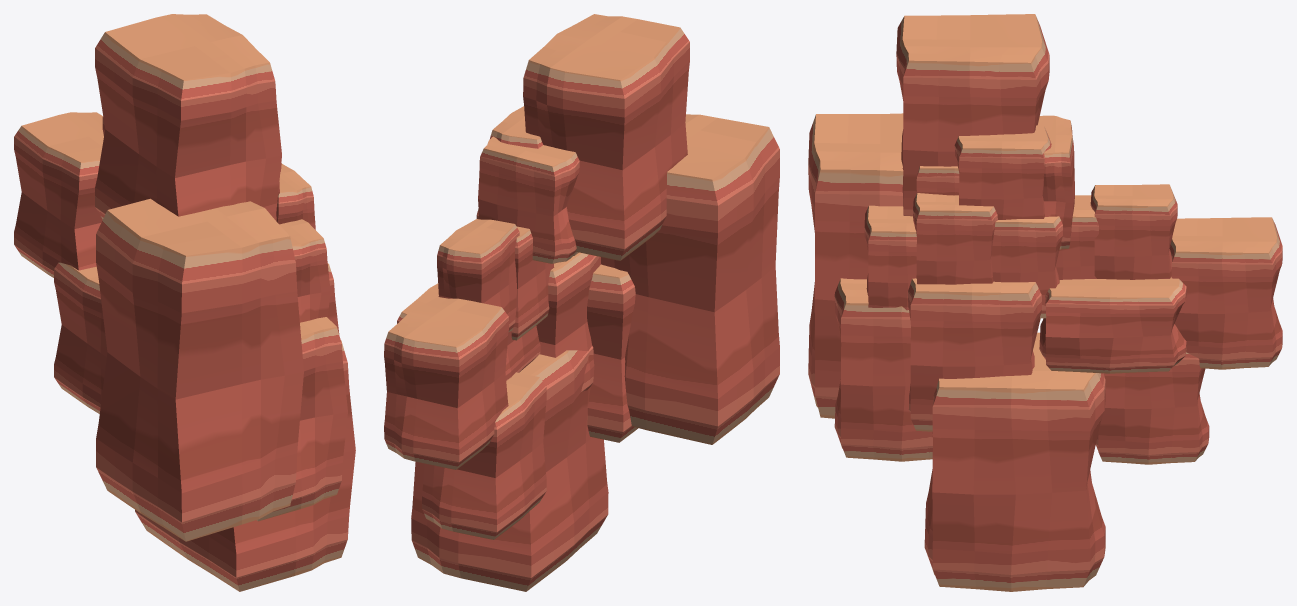
The model's file is M_modul_04_env.fbx.
The picture shows the model from 3 angles, left to right: view 1: azimuth 30°, elevation 25°; view 2: azimuth 150°, elevation 25°; view 3: azimuth 270°, elevation 25°; orthographic projection. The views are drawn at different scales.
Parts seen in each view (by area): view 1: M_Level_1_v2_15; view 2: M_Level_1_v2_15; view 3: M_Level_1_v2_15.
Part boxes in pixels (left/top/right/bottom): M_Level_1_v2_15: left=14, top=14, right=355, bottom=591; M_Level_1_v2_15: left=384, top=14, right=779, bottom=591; M_Level_1_v2_15: left=808, top=14, right=1282, bottom=591.
Bounding box in the file's own units: 34.63 × 70.31 × 60.74.
Materials: 1 (1 with a texture image).
